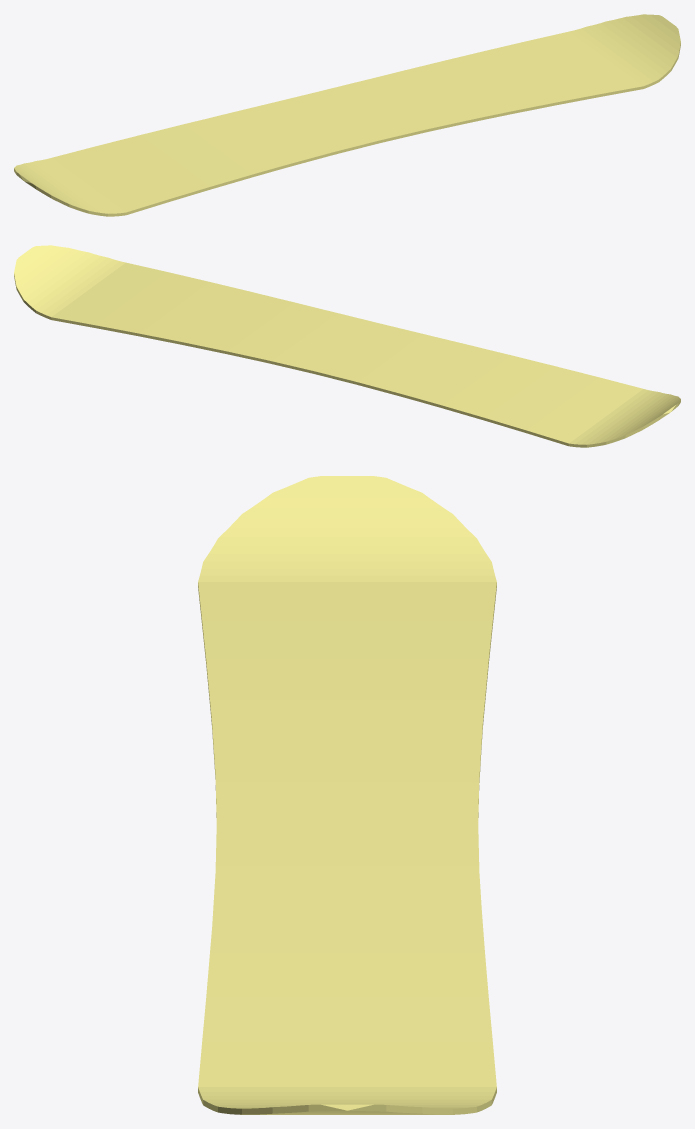
The model's file is fbxSnowboard.fbx.
3 views of the same model, one above another, from view 1: azimuth 30°, elevation 25°; view 2: azimuth 150°, elevation 25°; view 3: azimuth 270°, elevation 25° (orthographic). The views are drawn at different scales.
Visible parts, largest first — view 1: meshSnowboard; view 2: meshSnowboard; view 3: meshSnowboard.
Part boxes in pixels (bbox=[...]): meshSnowboard: bbox=[14, 14, 680, 216]; meshSnowboard: bbox=[14, 245, 680, 447]; meshSnowboard: bbox=[198, 476, 496, 1114].
Bounding box in the file's own units: 480 × 17.64 × 96.
